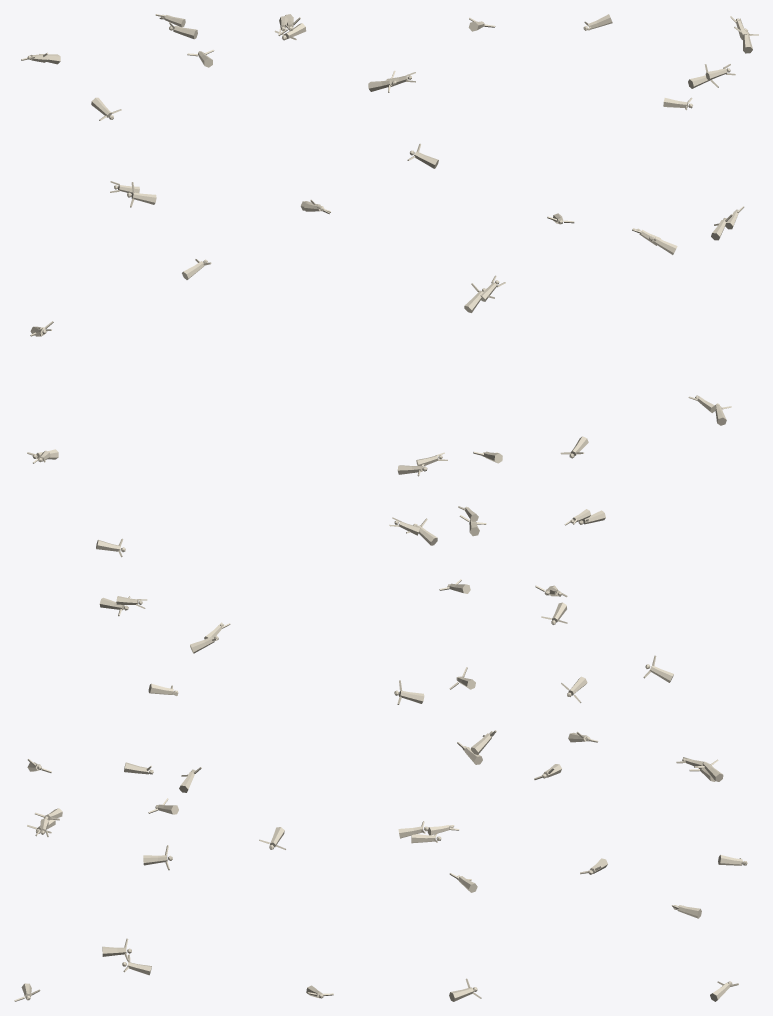
The model's file is Circle2Whirl0.obj.
3 views of the same model, side by side, from view 1: azimuth 30°, elevation 25°; view 2: azimuth 150°, elevation 25°; view 3: azimuth 270°, elevation 25° (orthographic). The views are drawn at different scales.
Parts seen in each view (by area): view 1: Circle2Whirl0; view 2: Circle2Whirl0; view 3: Circle2Whirl0.
Boxes of the visible parts, x1,y1,x2,y2 form: Circle2Whirl0: [14, 14, 230, 1001]; Circle2Whirl0: [259, 14, 505, 1001]; Circle2Whirl0: [534, 14, 758, 1001].
Size of the model in its own units: 17.9 by 80.67 by 17.38.
Materials: 1 (1 with a texture image).
